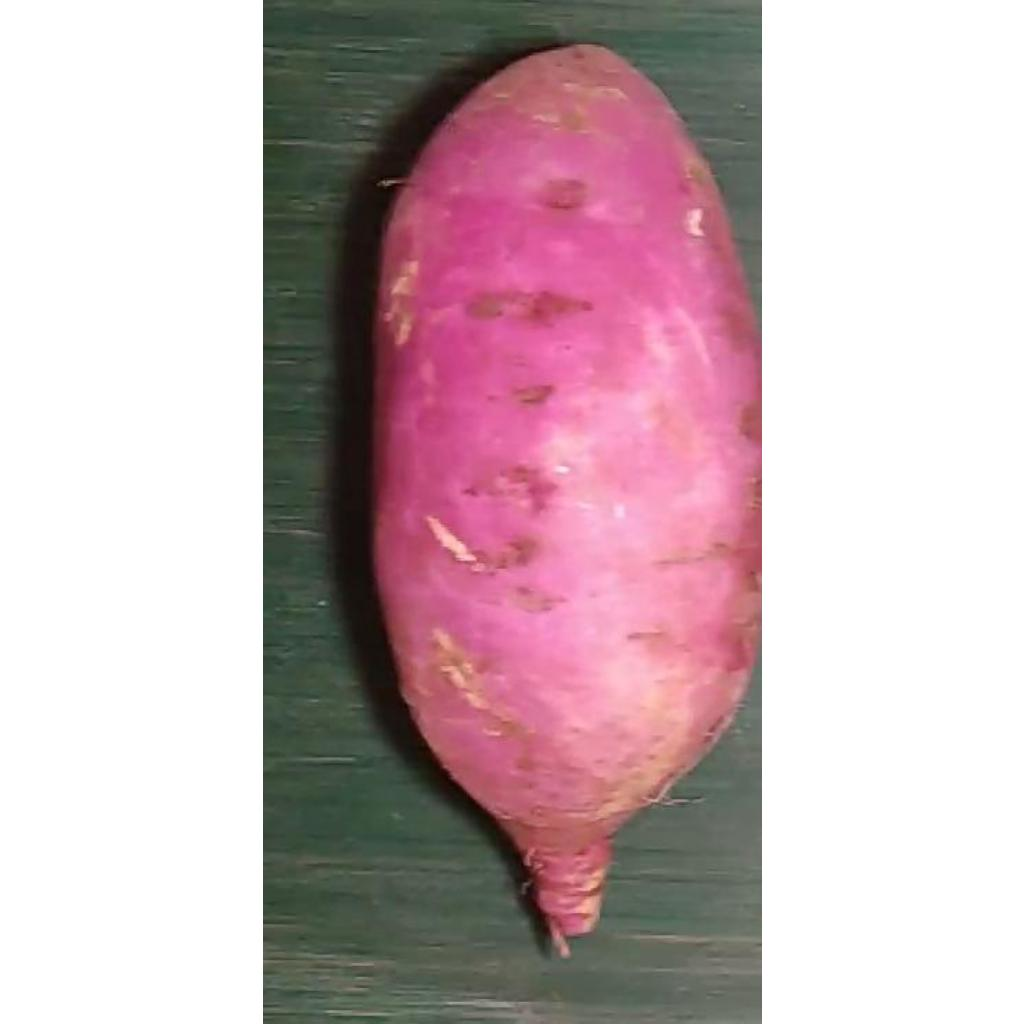Sweet Potato: (370, 44, 762, 934)
